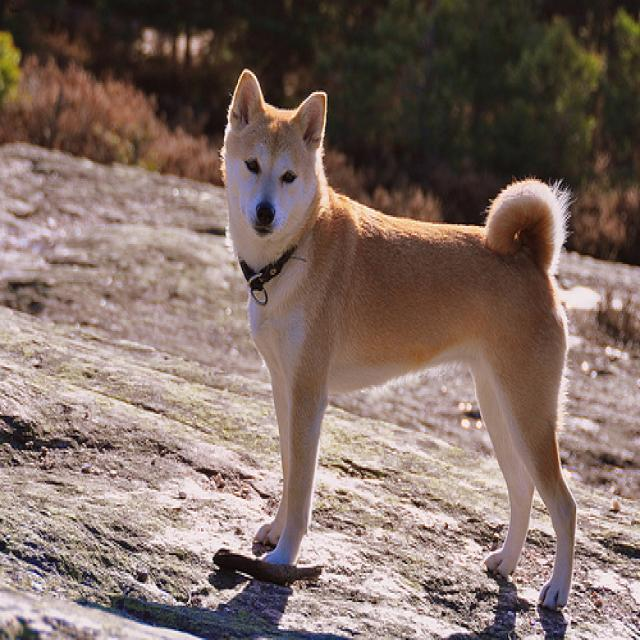dog-shiba_inu: (215, 60, 589, 624)
